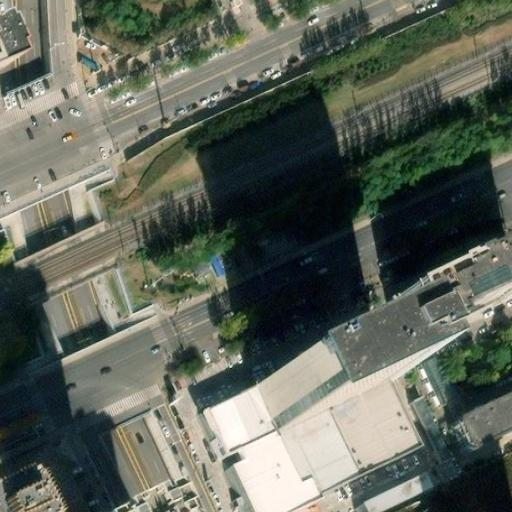building: (201, 373, 433, 512), (254, 321, 400, 431), (393, 234, 512, 334), (359, 467, 440, 512), (462, 389, 512, 447)
